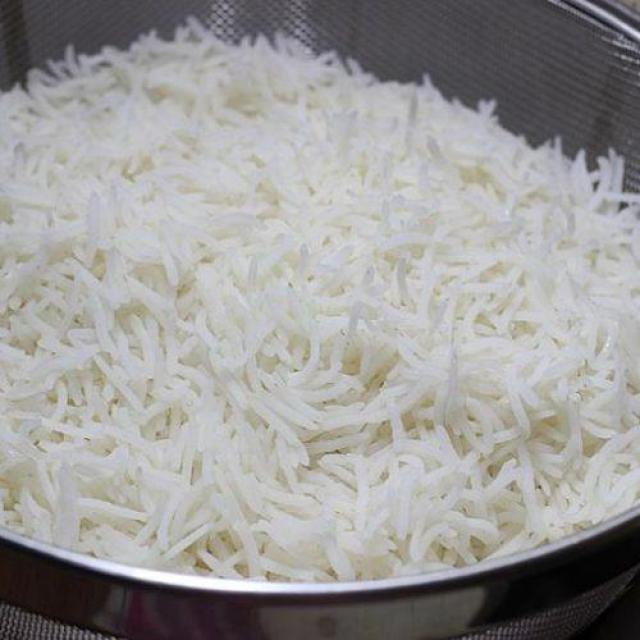rice: (0, 32, 640, 580)
